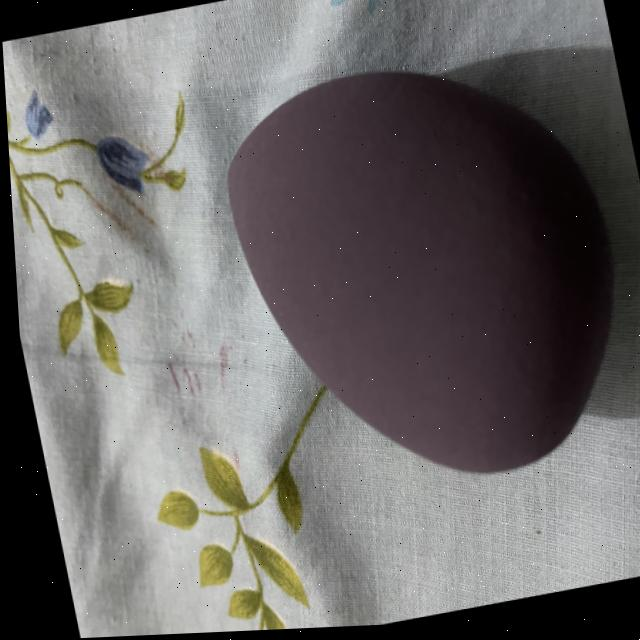beauty blender: (170, 0, 640, 542)
